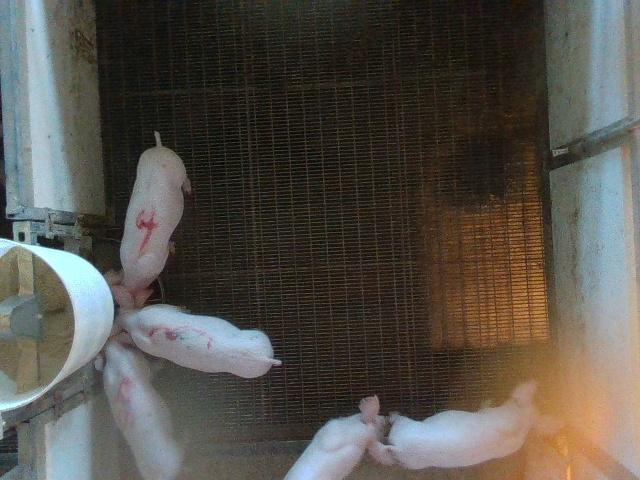pig-3: (111, 285, 281, 377)
pig-4: (106, 131, 191, 306)
pig-5: (104, 339, 182, 479)
